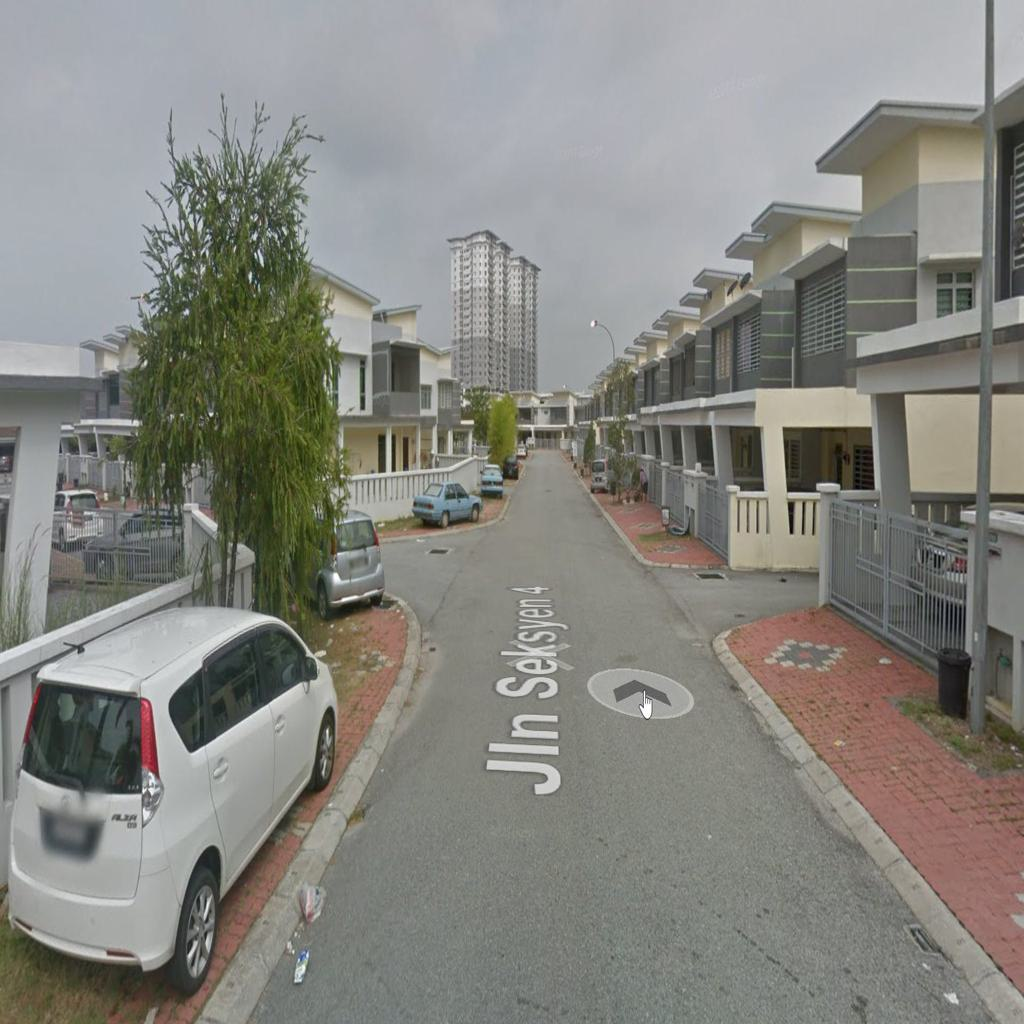Junction: (634, 535, 821, 647)
